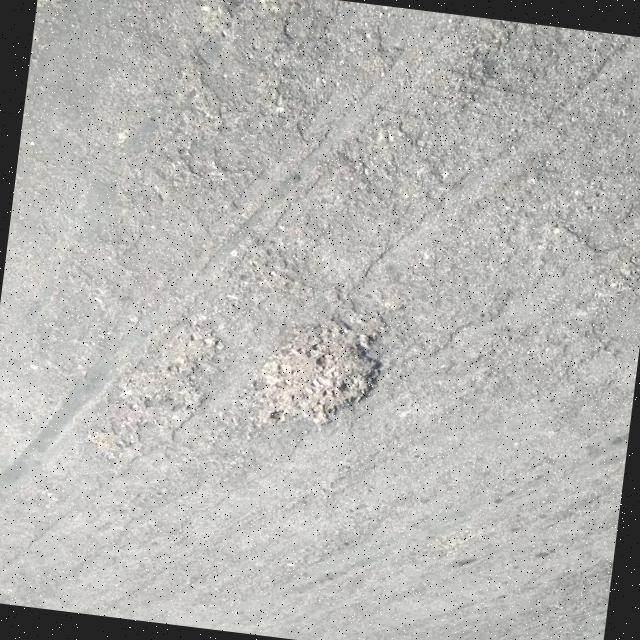Pothole: (265, 326, 382, 423)
